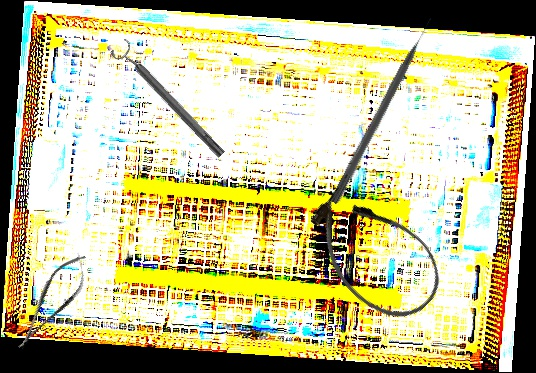Cannula: (292, 172, 457, 336)
Fixation Ring: (108, 36, 231, 165)
Micro Scissor: (5, 246, 99, 358)
Pusher: (328, 16, 438, 206)
